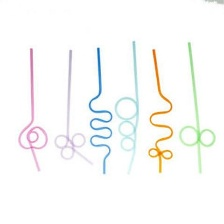drinking_straw: (176, 38, 220, 177), (14, 44, 53, 177), (84, 42, 117, 180)
